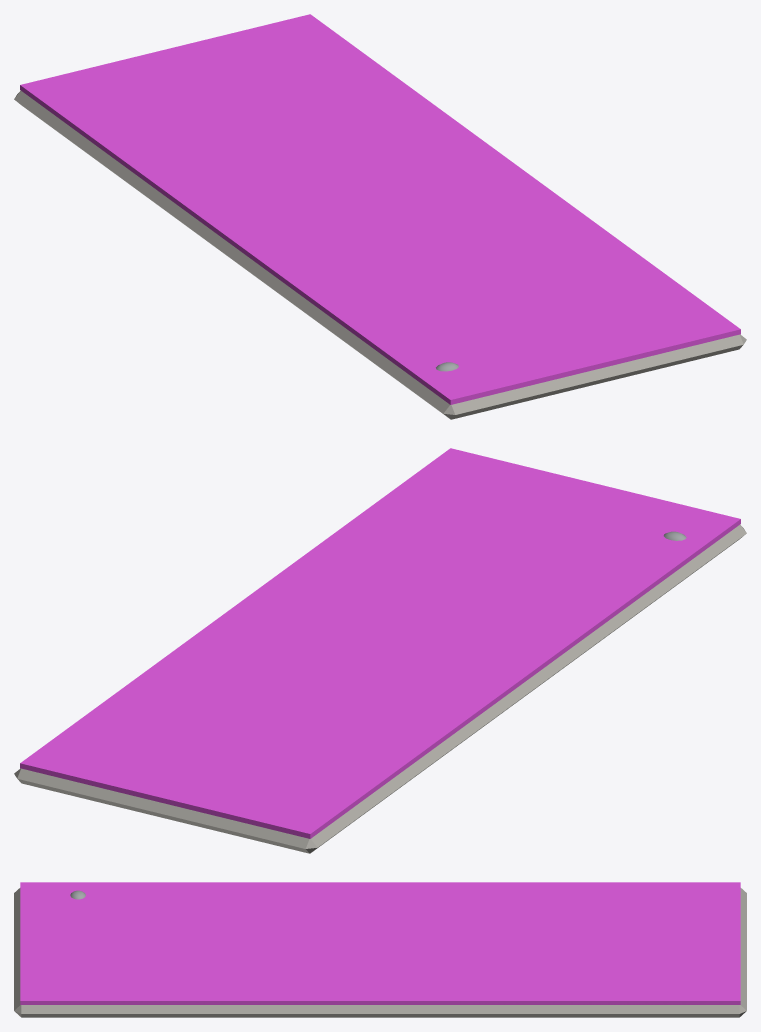
File: forest_path_gravel_straight_lod2_v1.glb
The picture shows the model from 3 angles, top to bottom: view 1: azimuth 30°, elevation 25°; view 2: azimuth 150°, elevation 25°; view 3: azimuth 270°, elevation 25°; orthographic projection. The views are drawn at different scales.
Visible parts, largest first — view 1: NAV_MASK_FOREST_PATH_GRAVEL_STRAIGHT_MAIN, LOD2_FOREST_PATH_GRAVEL_STRAIGHT_Surface; view 2: NAV_MASK_FOREST_PATH_GRAVEL_STRAIGHT_MAIN, LOD2_FOREST_PATH_GRAVEL_STRAIGHT_Surface; view 3: NAV_MASK_FOREST_PATH_GRAVEL_STRAIGHT_MAIN, LOD2_FOREST_PATH_GRAVEL_STRAIGHT_Surface.
Part boxes in pixels (x1=…): NAV_MASK_FOREST_PATH_GRAVEL_STRAIGHT_MAIN: x1=20, y1=14, x2=740, y2=404; LOD2_FOREST_PATH_GRAVEL_STRAIGHT_Surface: x1=14, y1=90, x2=746, y2=419; NAV_MASK_FOREST_PATH_GRAVEL_STRAIGHT_MAIN: x1=20, y1=448, x2=740, y2=838; LOD2_FOREST_PATH_GRAVEL_STRAIGHT_Surface: x1=14, y1=524, x2=746, y2=853; NAV_MASK_FOREST_PATH_GRAVEL_STRAIGHT_MAIN: x1=20, y1=882, x2=740, y2=1004; LOD2_FOREST_PATH_GRAVEL_STRAIGHT_Surface: x1=14, y1=888, x2=746, y2=1017.
Size of what is drawn, in the model's own units: 3.2 by 0.24 by 8.
